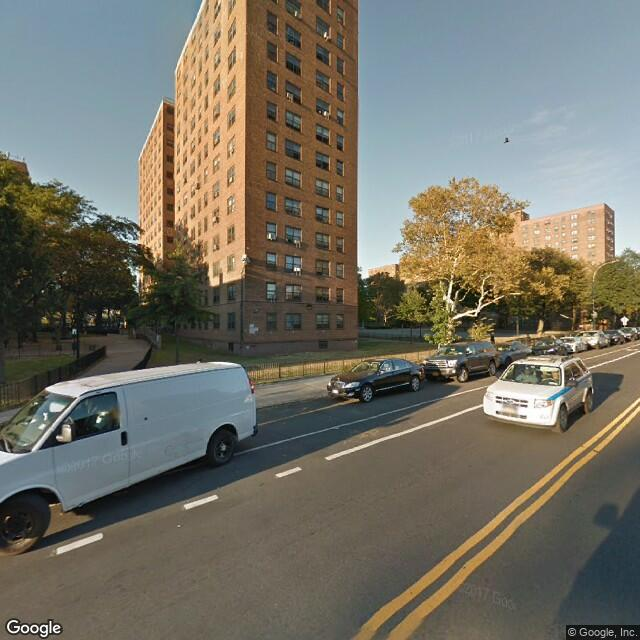litter: (299, 404, 309, 410), (175, 522, 182, 528)
